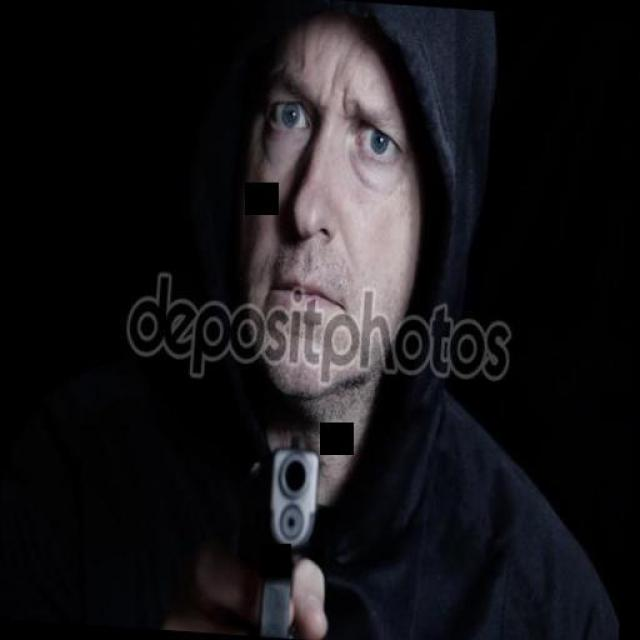gun: (216, 451, 342, 635)
